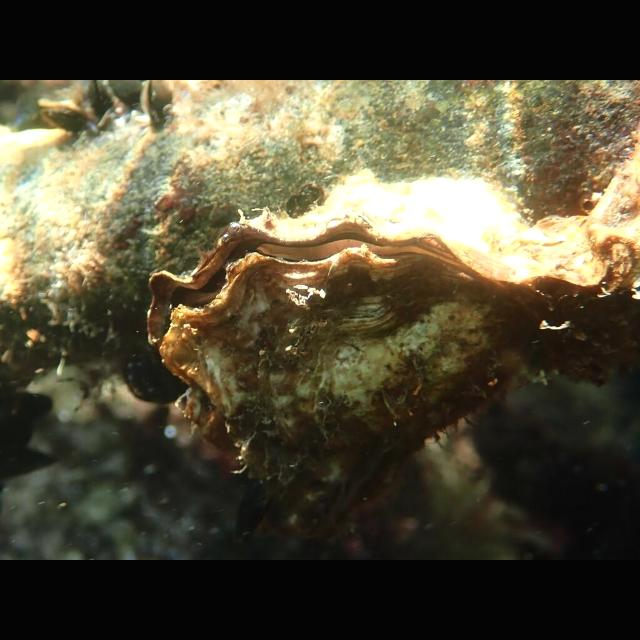Oyster-Open: (146, 169, 600, 477)
